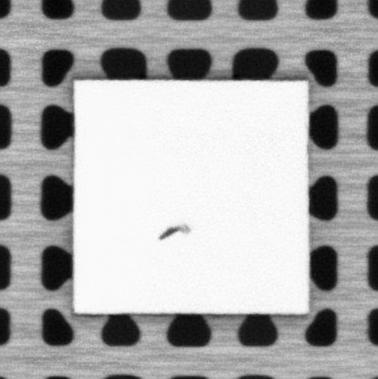DIE_INK: (156, 223, 192, 242)
